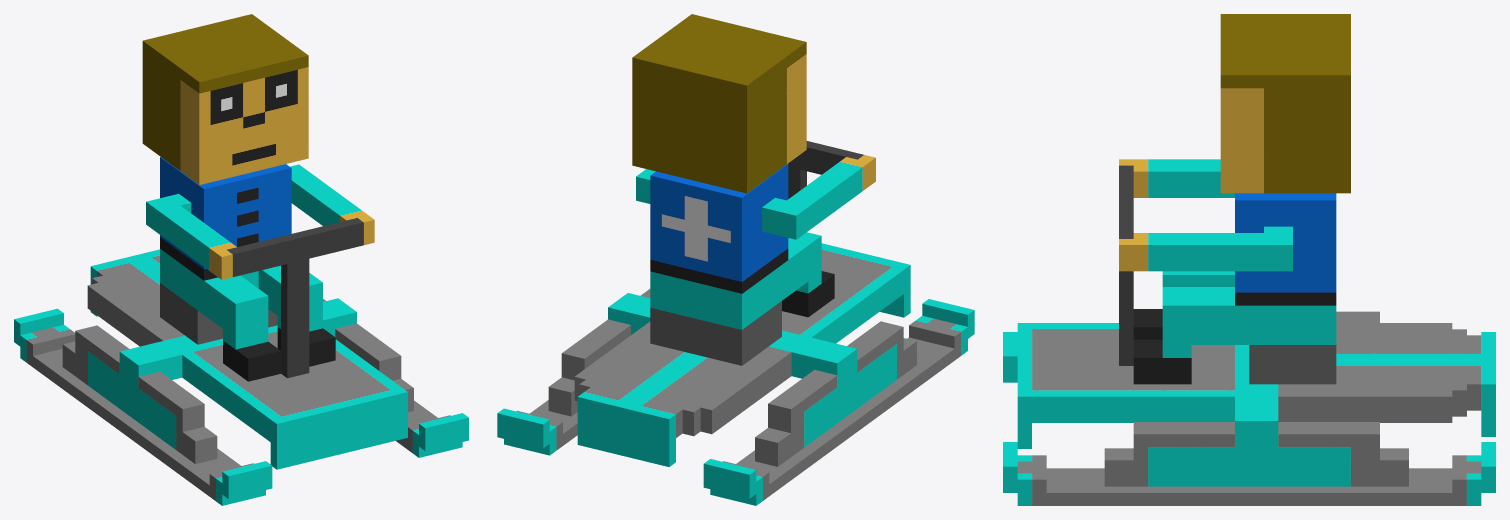
The model's file is Character_12.fbx.
The picture shows the model from 3 angles, left to right: view 1: azimuth 30°, elevation 25°; view 2: azimuth 150°, elevation 25°; view 3: azimuth 270°, elevation 25°; orthographic projection. The views are drawn at different scales.
Parts seen in each view (by area): view 1: Character_12; view 2: Character_12; view 3: Character_12.
Boxes of the visible parts, x1,y1,x2,y2 form: Character_12: [14, 14, 468, 505]; Character_12: [497, 14, 974, 505]; Character_12: [1003, 14, 1495, 505].
Bounding box in the file's own units: 22 × 30 × 34.
1 material, 1 textured.
